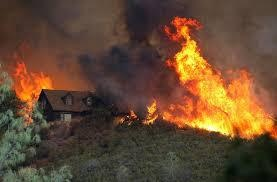fire: (153, 13, 276, 137), (0, 50, 56, 124)
